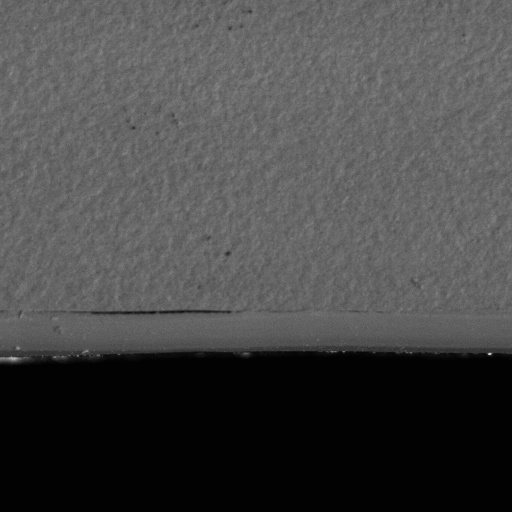jiaofeng: (81, 297, 236, 326)
